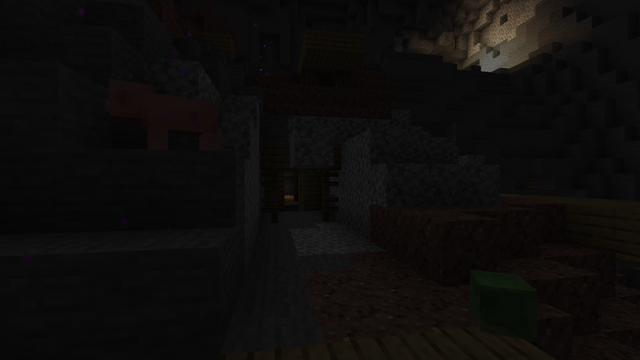cochons: (135, 89, 216, 146)
slimes: (462, 268, 542, 340)
